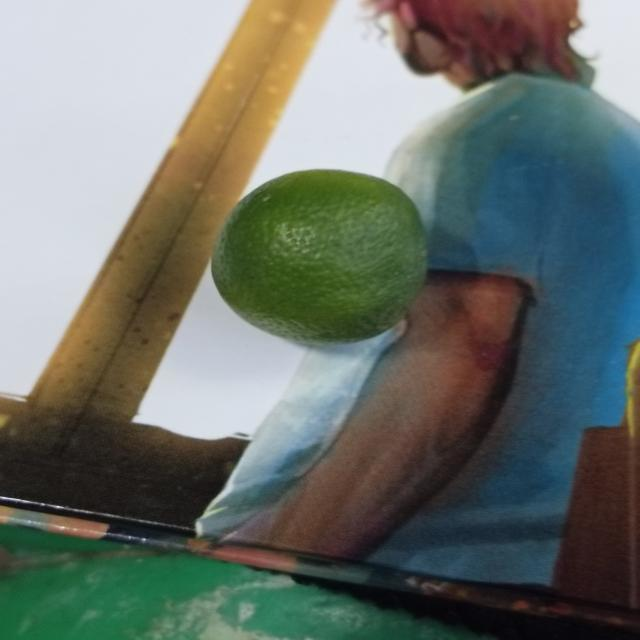heathy: (213, 167, 438, 350)
